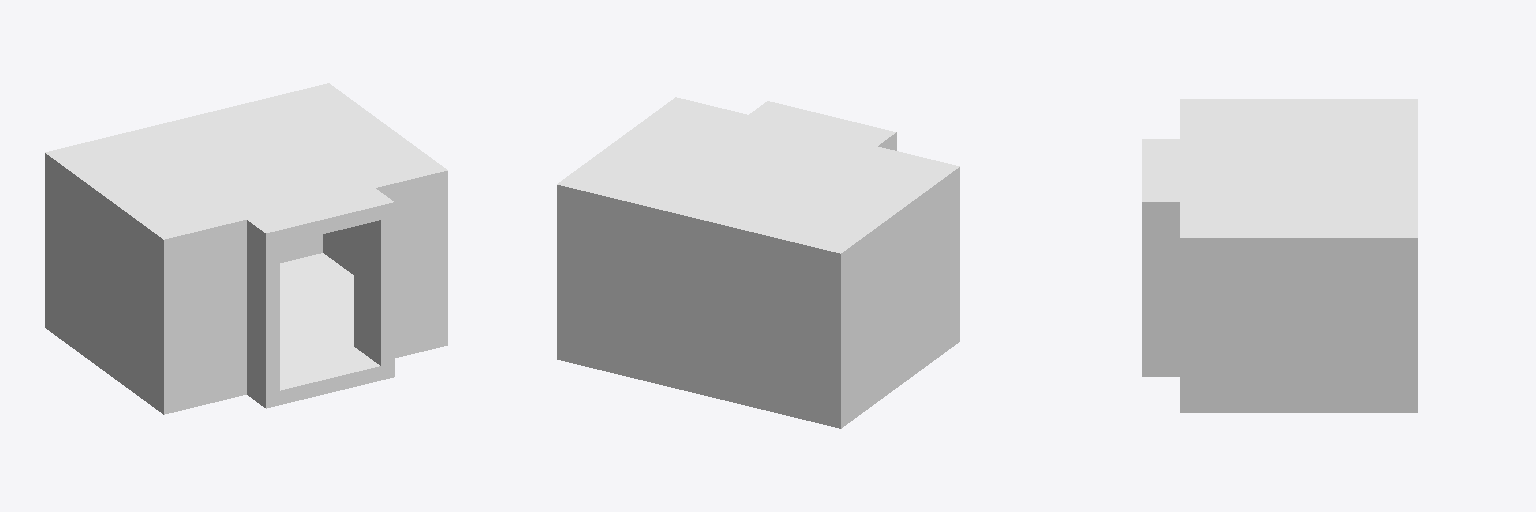
The model's file is rooma.obj.
3 renders of one model, left to right at view 1: azimuth 30°, elevation 25°; view 2: azimuth 150°, elevation 25°; view 3: azimuth 270°, elevation 25°, orthographic.
Parts seen in each view (by area): view 1: Form36; view 2: Form36; view 3: Form36.
Boxes of the visible parts, box(x1,y1,x2,y2) form: Form36: box(45, 83, 447, 414); Form36: box(557, 97, 959, 428); Form36: box(1142, 99, 1417, 412).
Bounding box in the file's own units: 517 × 304 × 436.